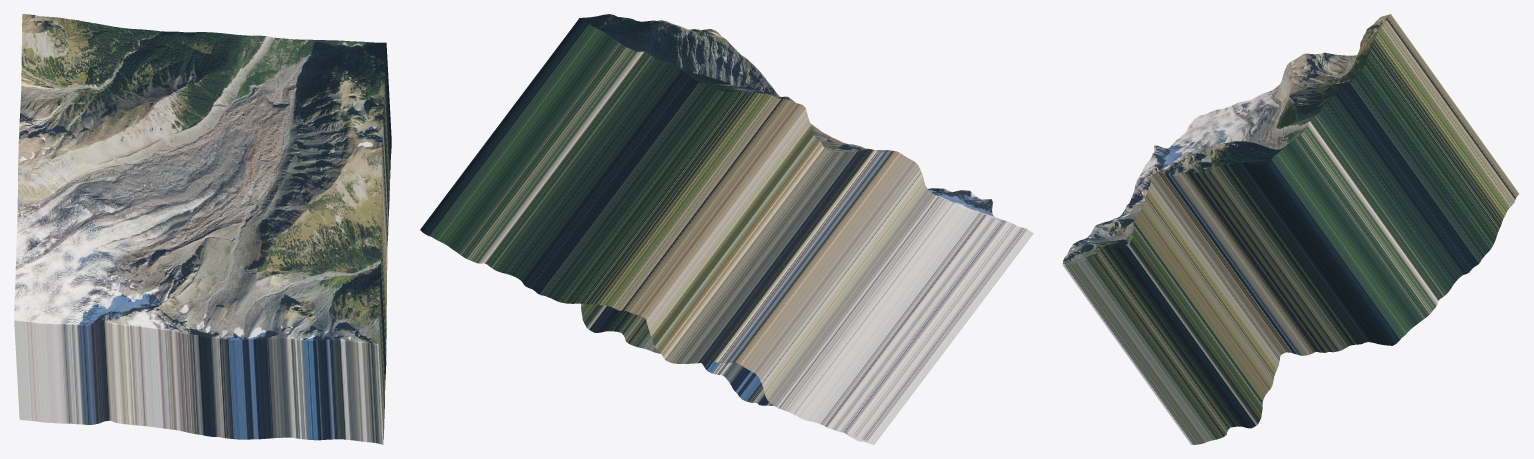
3 views of the same model, side by side, from view 1: azimuth 30°, elevation 25°; view 2: azimuth 150°, elevation 25°; view 3: azimuth 270°, elevation 25° (orthographic). The views are drawn at different scales.
Bounding box in the file's own units: 6463 × 4989 × 6198.
Materials: 1 (1 with a texture image).
